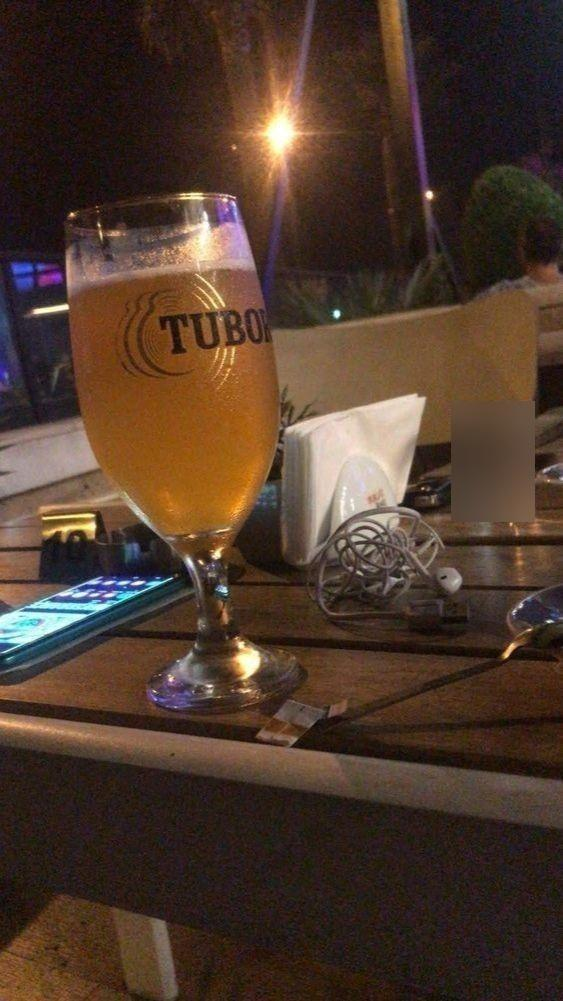glass-wine: (60, 182, 292, 716)
